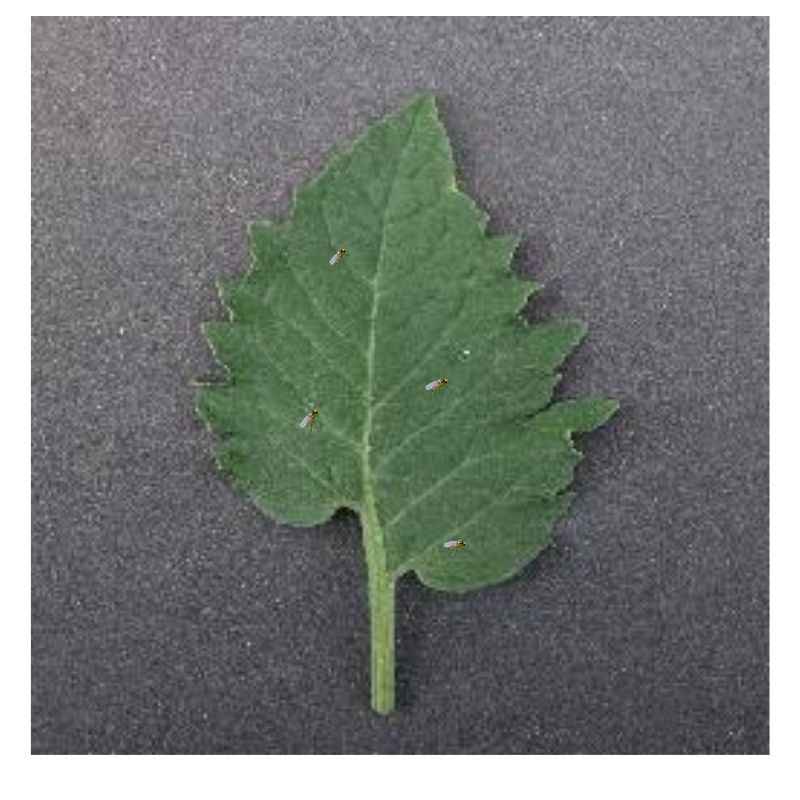liriomyza: (421, 372, 451, 396), (295, 407, 323, 430), (327, 247, 352, 267), (442, 537, 468, 555)
